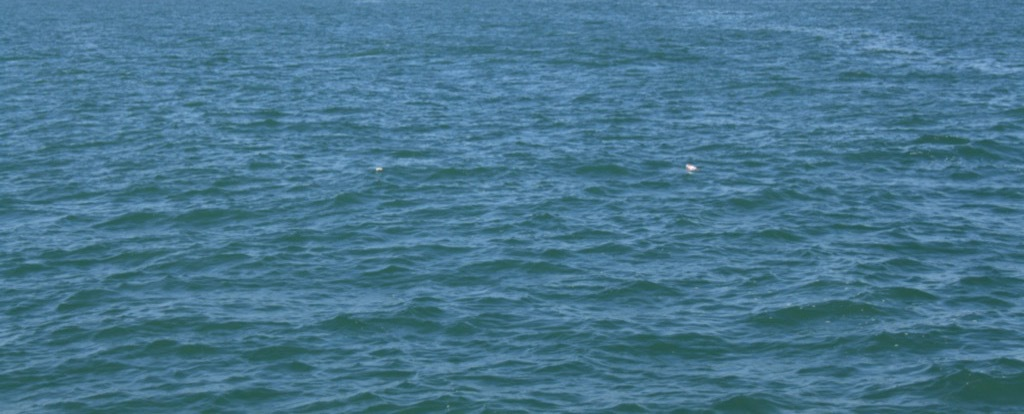plastic: (362, 154, 397, 182), (674, 151, 707, 180)
